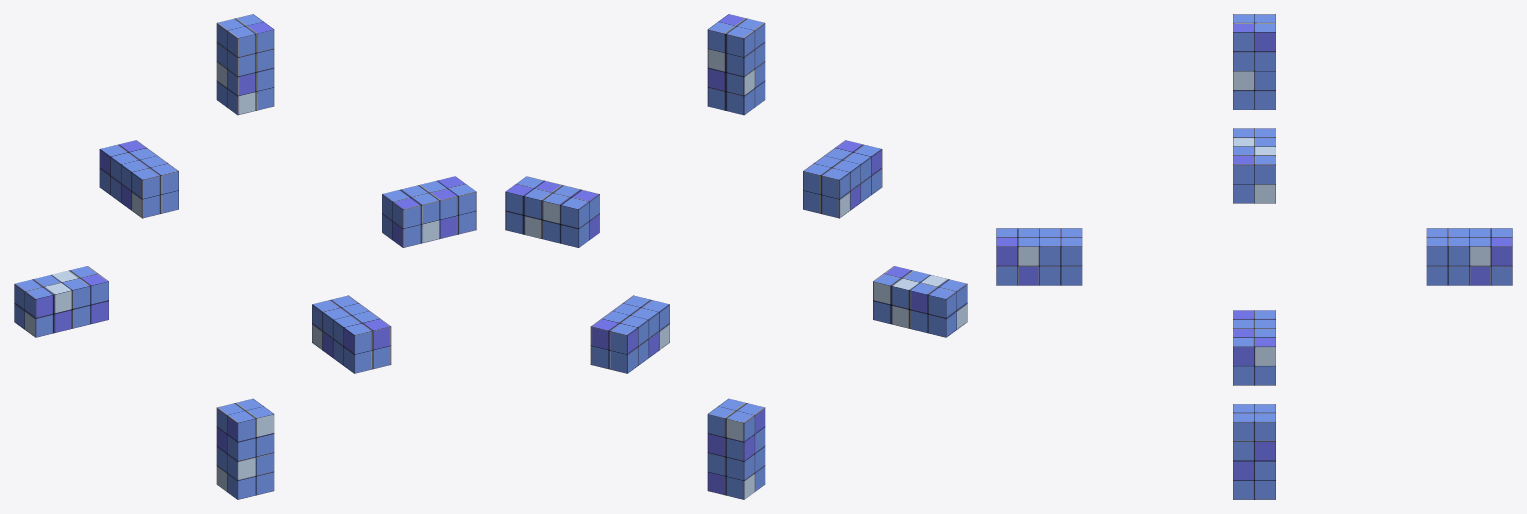
The model's file is enemy_block2.obj.
3 views of the same model, side by side, from view 1: azimuth 30°, elevation 25°; view 2: azimuth 150°, elevation 25°; view 3: azimuth 270°, elevation 25° (orthographic).
Visible parts, largest first — view 1: 立方体.001; view 2: 立方体.001; view 3: 立方体.001.
Boxes of the visible parts, bbox=[...] form: 立方体.001: bbox=[14, 14, 476, 499]; 立方体.001: bbox=[505, 14, 967, 499]; 立方体.001: bbox=[996, 14, 1512, 499].
Bounding box in the file's own units: 6 × 6 × 6.
